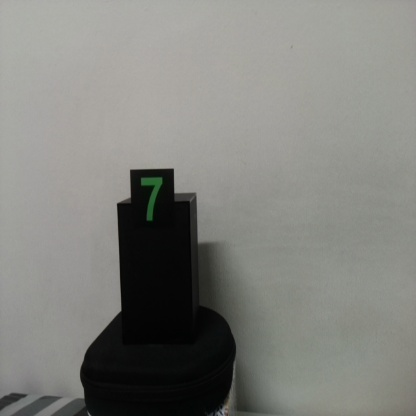id_7: (128, 167, 174, 244)
